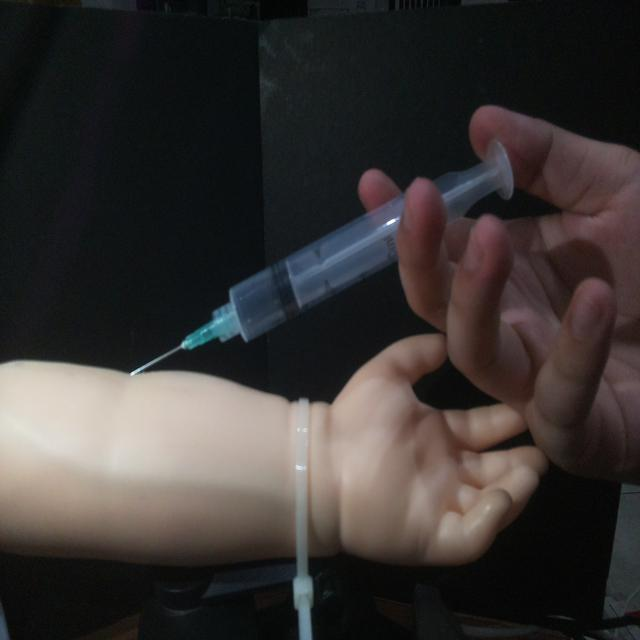22deg: (126, 134, 518, 379)
